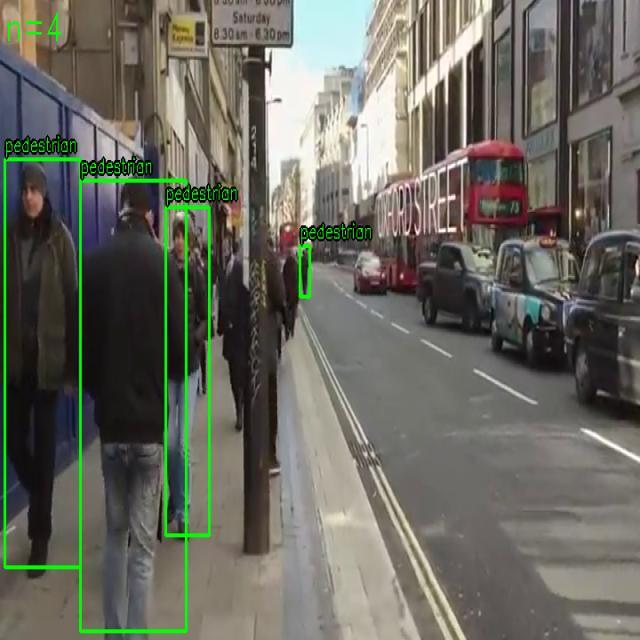with scooter: (80, 180, 187, 632), (4, 158, 81, 568), (165, 206, 210, 536), (300, 245, 310, 298)
